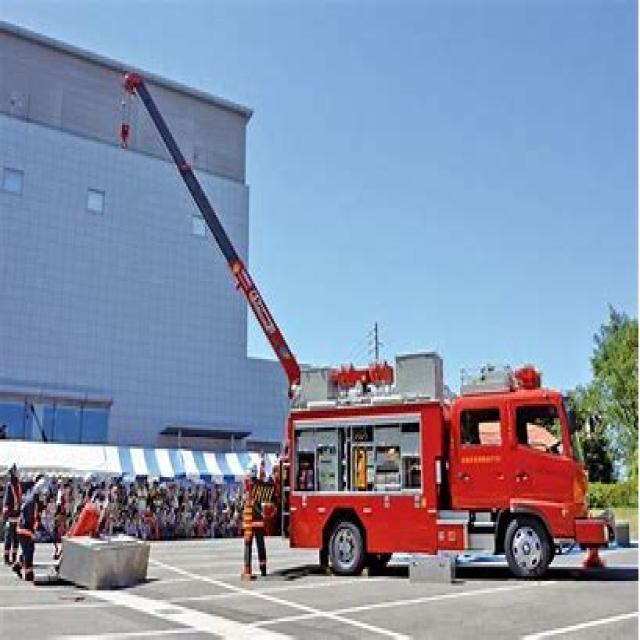Fire-engine: (118, 69, 616, 578)
